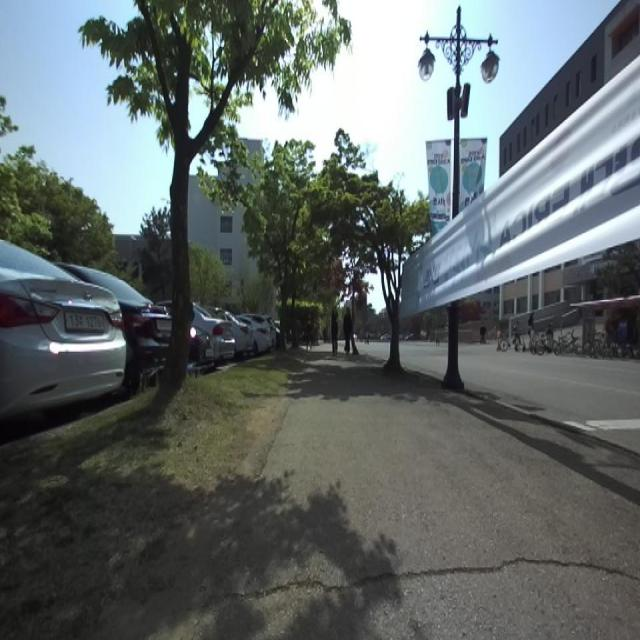sidewalk: (152, 344, 640, 640)
